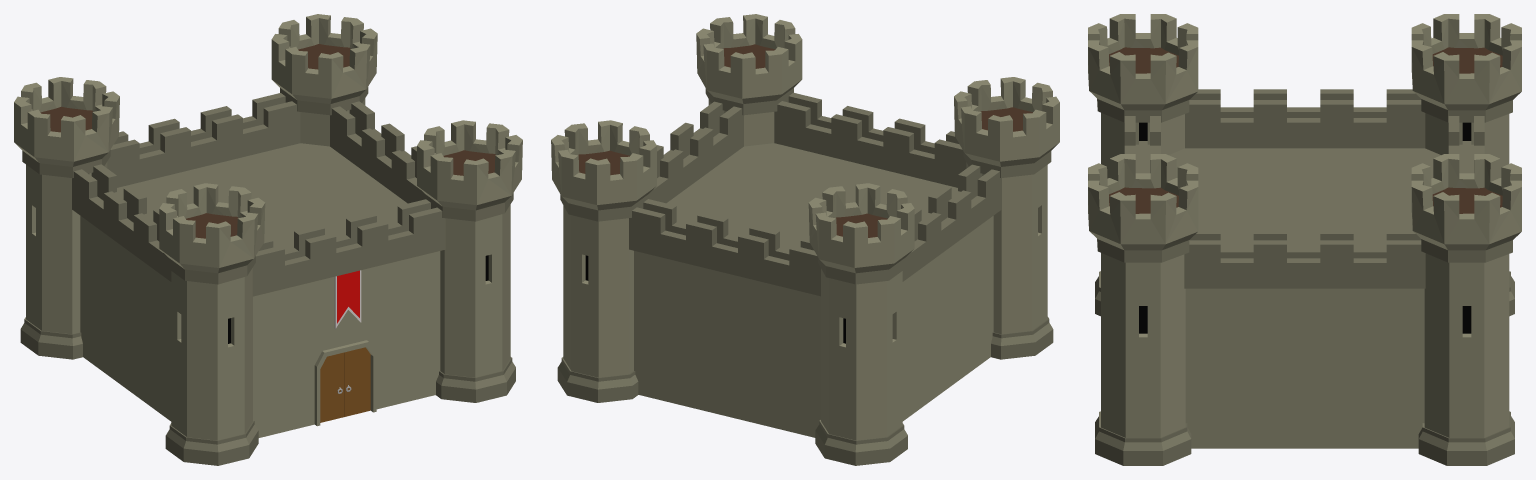
Rendered from castle.dae.
3 renders of one model, left to right at view 1: azimuth 30°, elevation 25°; view 2: azimuth 150°, elevation 25°; view 3: azimuth 270°, elevation 25°, orthographic. The views are drawn at different scales.
Parts seen in each view (by area): view 1: wall, tower1, tower2, tower3, wall.001, roof, tower4, wall.002, wall.003, gate, banner; view 2: wall.002, tower3, tower4, tower1, wall.001, roof, tower2, wall, wall.003; view 3: wall.003, tower4, tower2, roof, tower3, tower1, wall.001, wall.002, wall.
Part boxes in pixels (left/top/right/bottom): wall: left=252, top=199, right=445, bottom=437; tower1: left=159, top=183, right=265, bottom=465; tower2: left=417, top=120, right=522, bottom=402; tower3: left=14, top=77, right=119, bottom=359; wall.001: left=72, top=164, right=171, bottom=421; roof: left=117, top=143, right=407, bottom=249; tower4: left=271, top=14, right=377, bottom=146; wall.002: left=107, top=93, right=300, bottom=187; wall.003: left=330, top=101, right=425, bottom=203; gate: left=320, top=347, right=370, bottom=422; banner: left=334, top=270, right=361, bottom=328; wall.002: left=629, top=199, right=820, bottom=437; tower3: left=808, top=183, right=914, bottom=465; tower4: left=551, top=120, right=656, bottom=402; tower1: left=954, top=77, right=1059, bottom=359; wall.001: left=902, top=164, right=1001, bottom=421; roof: left=666, top=143, right=957, bottom=249; tower2: left=696, top=14, right=802, bottom=146; wall: left=774, top=92, right=966, bottom=187; wall.003: left=648, top=101, right=743, bottom=203; wall.003: left=1184, top=229, right=1425, bottom=448; tower4: left=1411, top=154, right=1521, bottom=465; tower2: left=1088, top=154, right=1198, bottom=465; roof: left=1169, top=148, right=1440, bottom=247; tower3: left=1411, top=14, right=1521, bottom=316; tower1: left=1088, top=14, right=1198, bottom=316; wall.001: left=1185, top=89, right=1425, bottom=148; wall.002: left=1448, top=116, right=1484, bottom=173; wall: left=1124, top=116, right=1160, bottom=173.
Size of the model in its own units: 26.55 by 26.08 by 17.8.
